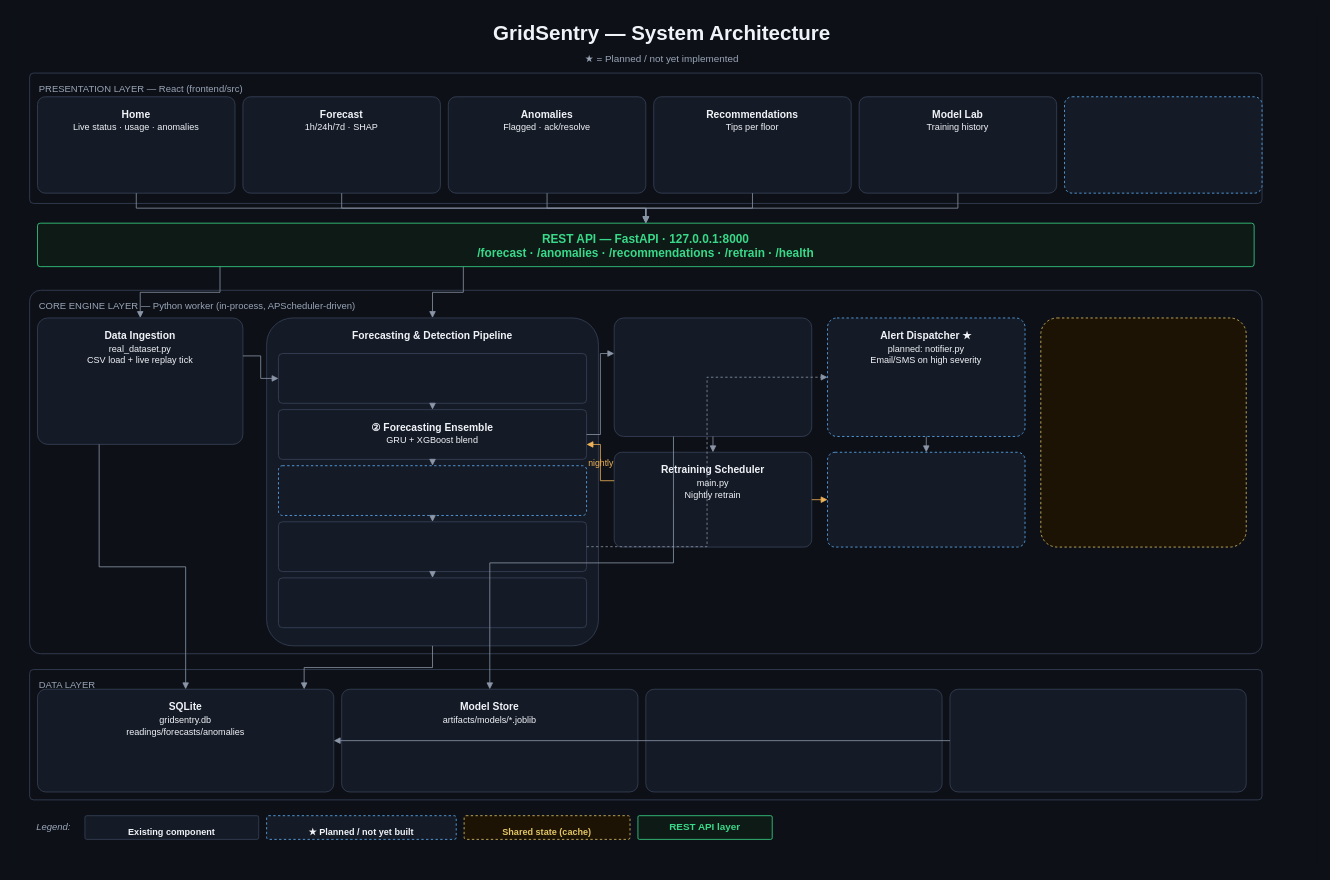
Image size: 1330x880. Some labels were removed from this diagram. Here are the shapes that lost their labels. From the top down, the centre of each, then its label:
[1163,144]: Settings ★ Thresholds · schedule
[432,378]: ① Feature Engineering lags · rolling avg · calendar
[712,376]: Model Registry forecast_service.py Versioned runs, joblib
[1143,432]: Shared State 20s forecast cache Active model version Retrain-in-progress flag
[432,490]: ③ Model Comparison ★ + LightGBM, ARIMA/SVR (planned)
[926,499]: Report Builder ★ planned Weekly PDF/CSV export
[432,546]: ④ Anomaly Scoring control-chart + autoencoder
[432,602]: ⑤ Recommendation Gen rule engine → tip
[793,740]: Historical Weather Real T_out/RH_out in dataset
[1097,740]: External Source UCI dataset → seeds SQLite
